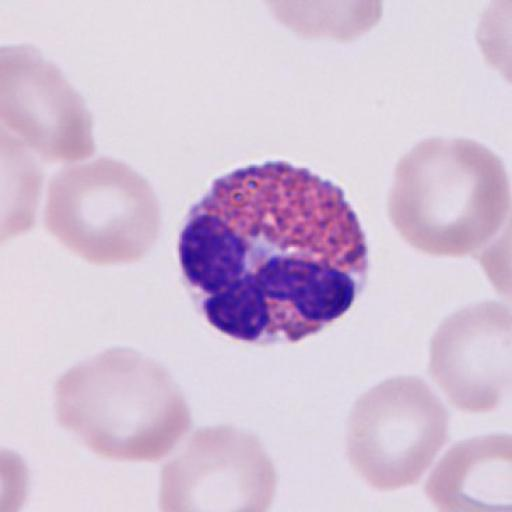RBC: (50, 344, 193, 462), (385, 132, 510, 259), (42, 153, 165, 267), (341, 372, 452, 492), (2, 42, 96, 164), (160, 420, 278, 512), (425, 298, 512, 415), (424, 428, 512, 512), (260, 0, 385, 43), (1, 131, 42, 242), (474, 0, 512, 86), (480, 203, 512, 301), (481, 227, 512, 313), (0, 444, 32, 512)
WBC: (174, 158, 372, 347)
